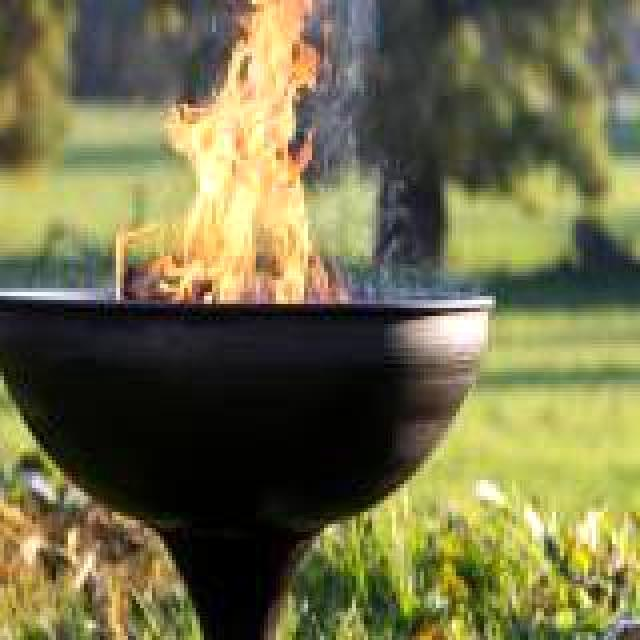fire: (164, 0, 320, 272), (324, 156, 420, 296), (308, 0, 388, 160)
